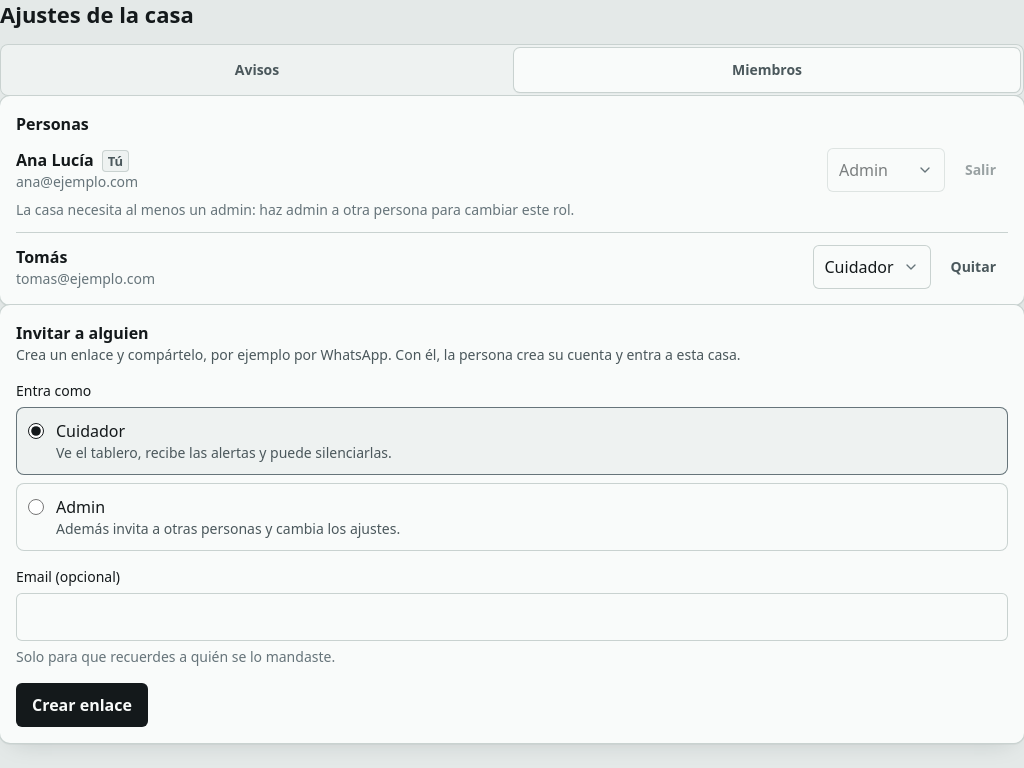
Test: Miembros › «Cancelar» cierra la confirmación sin quitar a nadie
Click the button "Quitar" at (973, 267), box left=938, top=245, right=1008, bottom=289
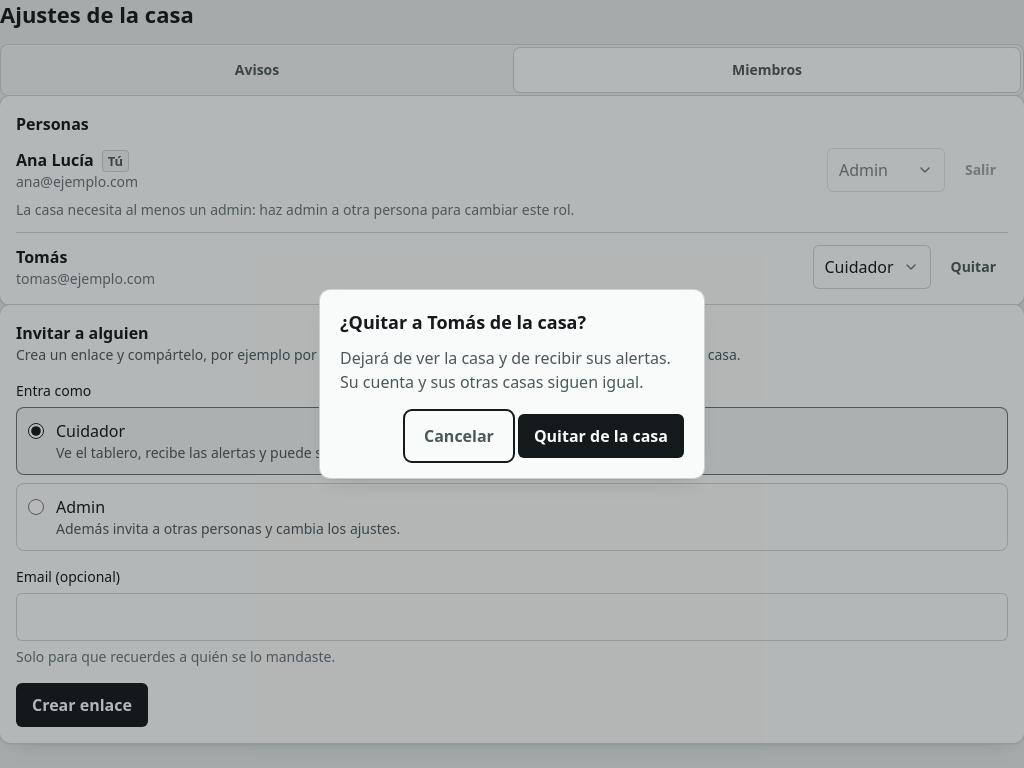
Click the button "Cancelar" at (459, 436), box left=408, top=414, right=510, bottom=458
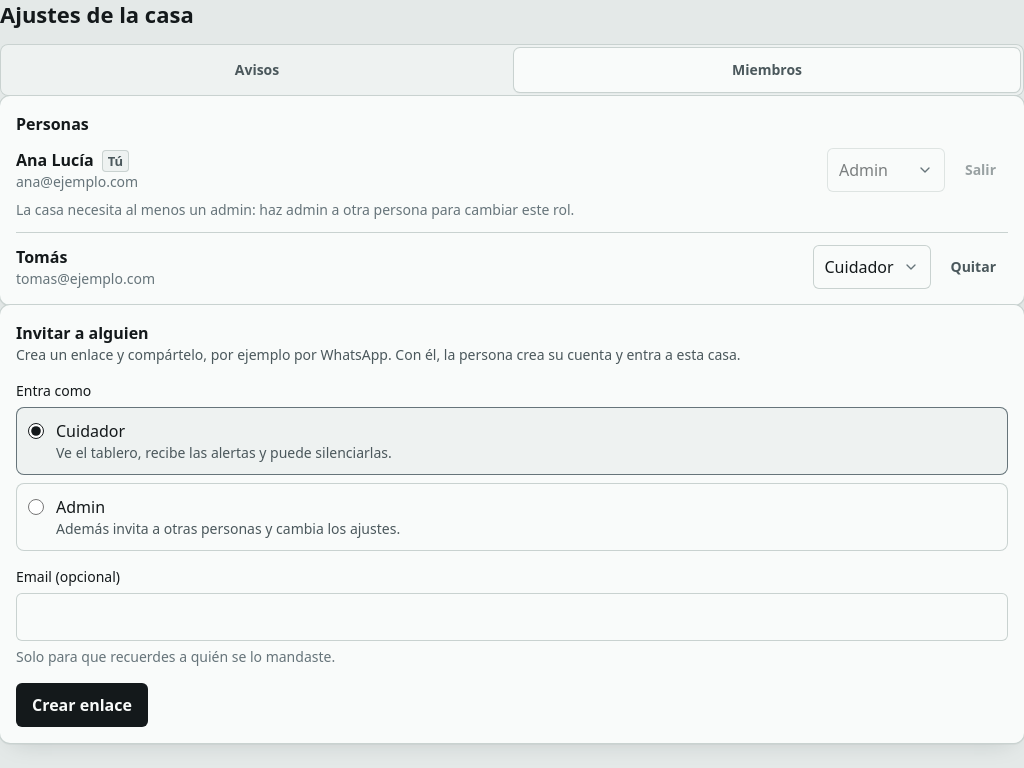
Expected: the text "Tomás" is shown, left=16, top=246, right=67, bottom=268
Now the dialog is gone
